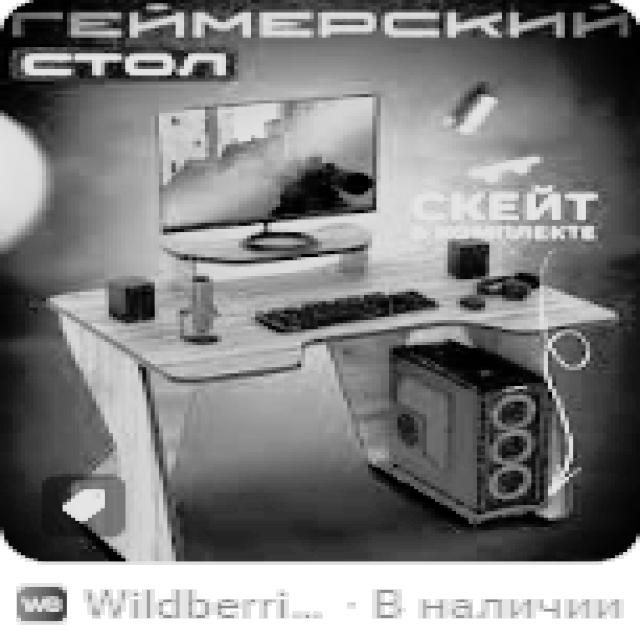table: (46, 242, 619, 558)
